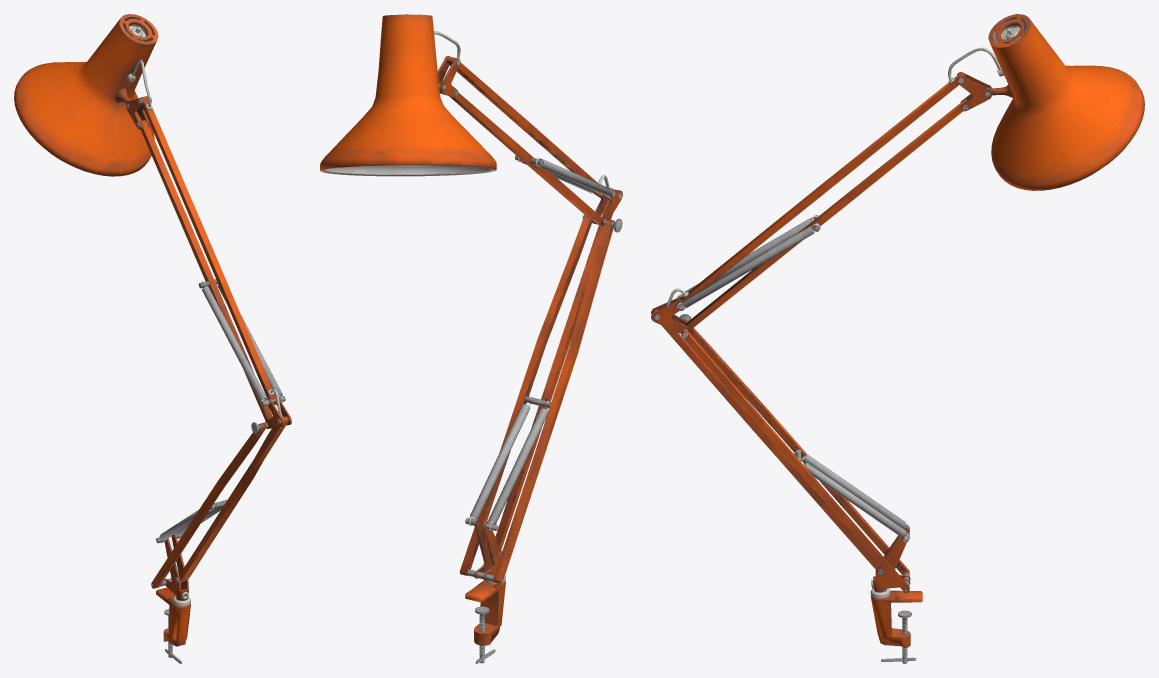
Rendered from ph-desk_lamp_arm_01.glb.
3 views of the same model, side by side, from view 1: azimuth 30°, elevation 25°; view 2: azimuth 150°, elevation 25°; view 3: azimuth 270°, elevation 25° (orthographic). The views are drawn at different scales.
Parts seen in each view (by area): view 1: desk_lamp_arm_01; view 2: desk_lamp_arm_01; view 3: desk_lamp_arm_01.
Boxes of the visible parts, bbox=[...] form: desk_lamp_arm_01: bbox=[14, 14, 291, 663]; desk_lamp_arm_01: bbox=[320, 14, 622, 663]; desk_lamp_arm_01: bbox=[651, 14, 1144, 663].
Size of the model in its own units: 0.2017 by 0.8926 by 0.6139.
2 materials, 2 textured.
